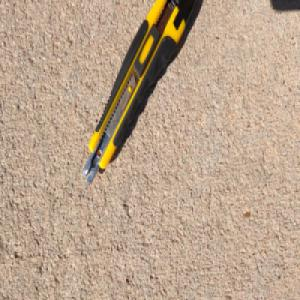Cutter: (81, 0, 194, 186)
